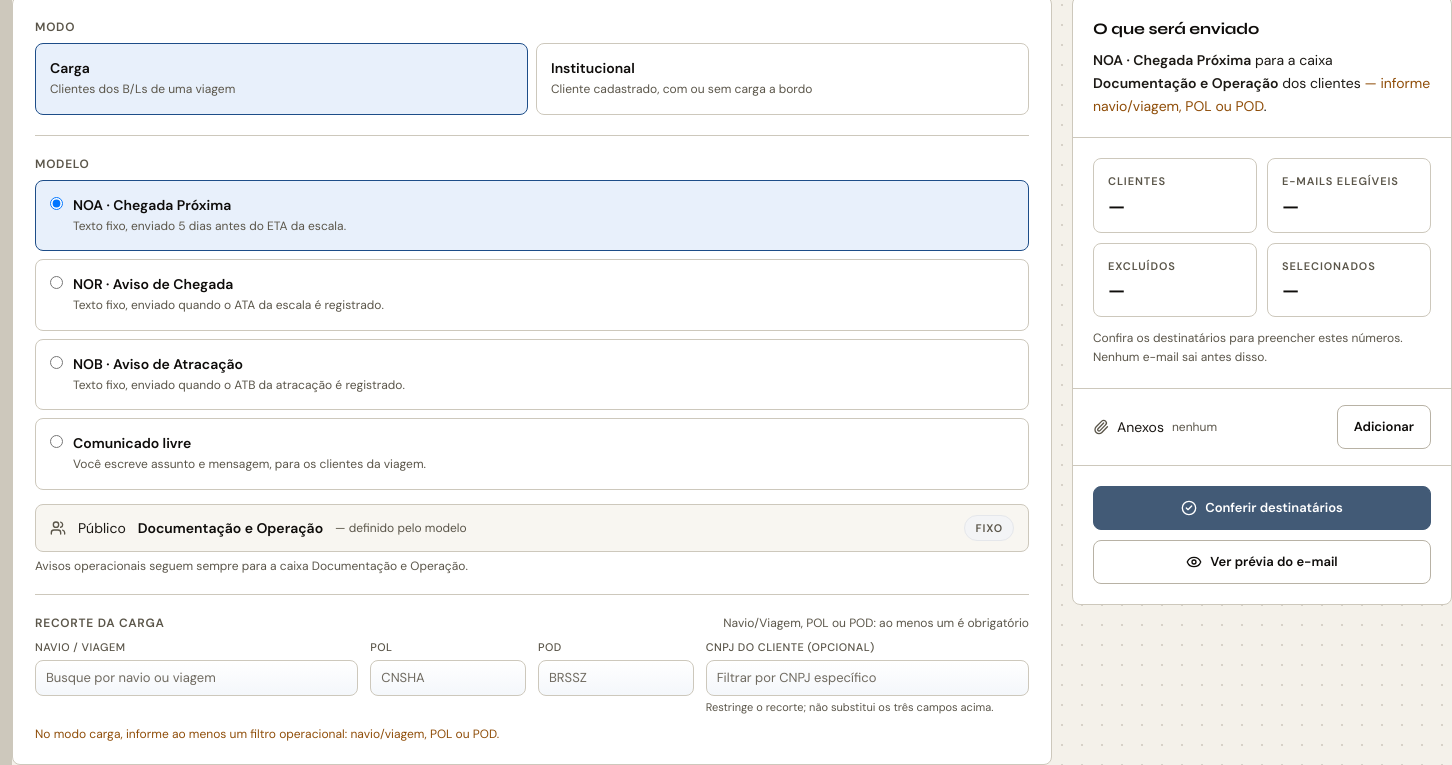
Test case: Página ClientesComunicacao (UI e fluxos) › bloqueia a conferência do modo carga enquanto nenhum filtro operacional for informado
(page scrolled)
Expected: the button "Conferir destinatários" is disabled, top-left (1093, 486), bottom-right (1431, 530)
Type "COSCO SHIPPING XING WANG" into the field labelled "Navio / Viagem" at (197, 678), box top-left (35, 660), bottom-right (358, 696)
(page scrolled)
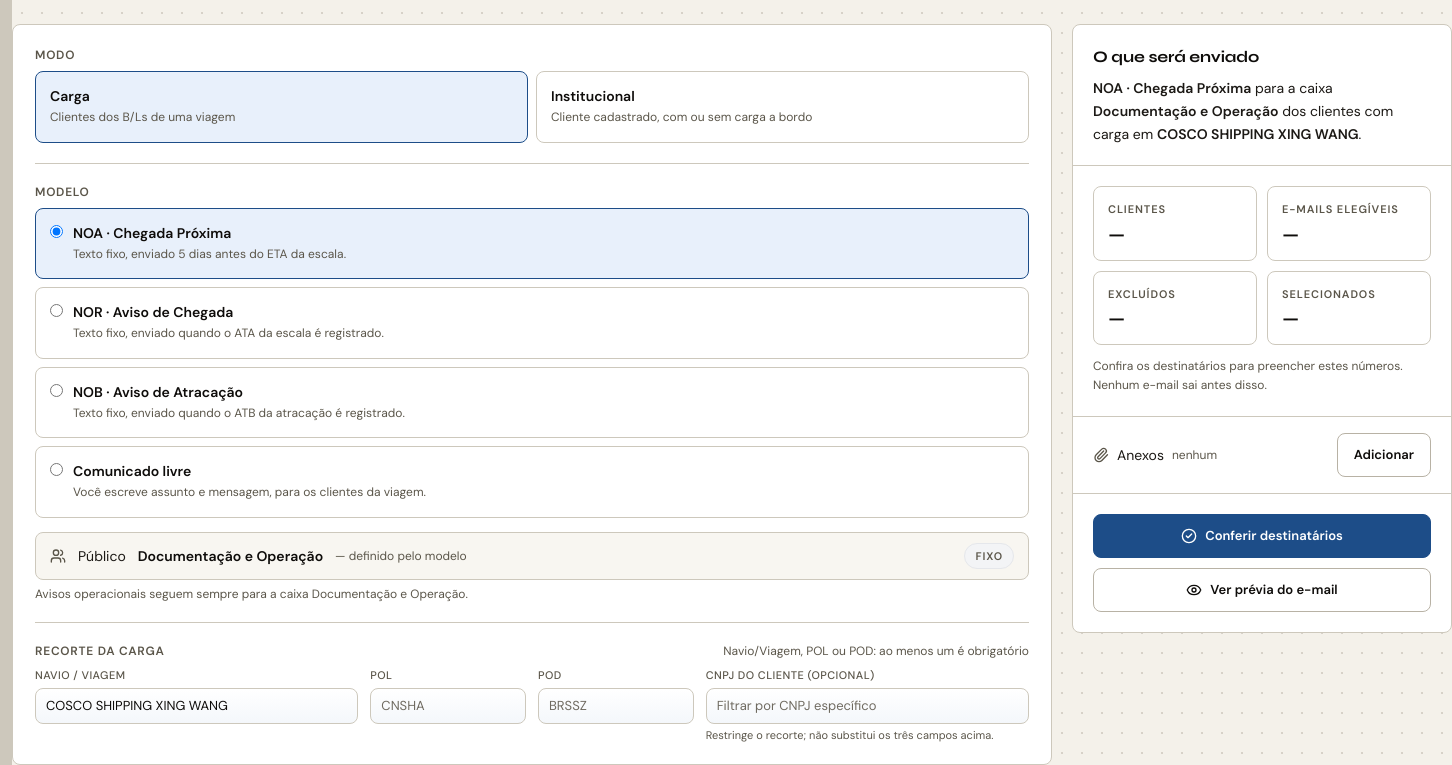
Result: the button "Conferir destinatários" is enabled at top-left (1093, 514), bottom-right (1431, 558)
